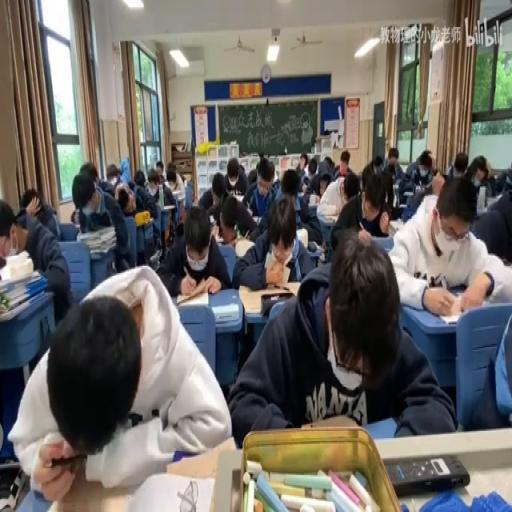calculator: (126, 471, 217, 512), (170, 435, 234, 478), (238, 280, 300, 314), (432, 293, 496, 321), (212, 300, 238, 322), (178, 289, 209, 307), (368, 232, 394, 253), (234, 236, 256, 258), (316, 203, 338, 222), (90, 246, 115, 259), (295, 226, 307, 248), (476, 183, 485, 212), (482, 193, 498, 209), (387, 219, 402, 235), (394, 202, 407, 219), (168, 188, 184, 200), (306, 240, 322, 252), (230, 189, 244, 201), (306, 199, 318, 212), (214, 235, 229, 243), (251, 215, 261, 226), (296, 189, 307, 198), (160, 204, 174, 210), (208, 215, 215, 226), (403, 191, 414, 196)
paper: (12, 262, 230, 498), (228, 234, 449, 446), (387, 171, 508, 310), (0, 193, 70, 329), (231, 191, 312, 287), (155, 205, 230, 300), (72, 168, 130, 274), (329, 166, 387, 254), (145, 165, 177, 233), (453, 154, 493, 204), (403, 148, 436, 199), (198, 168, 229, 215), (224, 155, 248, 196), (485, 165, 511, 201), (0, 220, 22, 259), (384, 145, 403, 181), (116, 184, 137, 216), (382, 172, 396, 215), (20, 188, 42, 214), (280, 168, 299, 196), (339, 148, 356, 178), (256, 155, 274, 183), (80, 162, 99, 188), (360, 162, 374, 189), (118, 155, 131, 183), (344, 175, 358, 200), (105, 163, 120, 185), (304, 156, 317, 180), (246, 160, 258, 184), (154, 159, 165, 181), (134, 168, 146, 185), (372, 154, 382, 172), (323, 155, 335, 169), (70, 208, 80, 224), (454, 163, 465, 175), (299, 155, 307, 169), (421, 156, 430, 168), (166, 175, 174, 186), (432, 165, 439, 175), (258, 150, 264, 160), (239, 152, 248, 158)
person: (384, 452, 470, 494), (0, 462, 26, 510), (446, 283, 468, 296), (264, 282, 290, 292)
